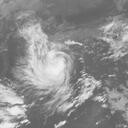cyclone: (33, 51, 72, 87)
